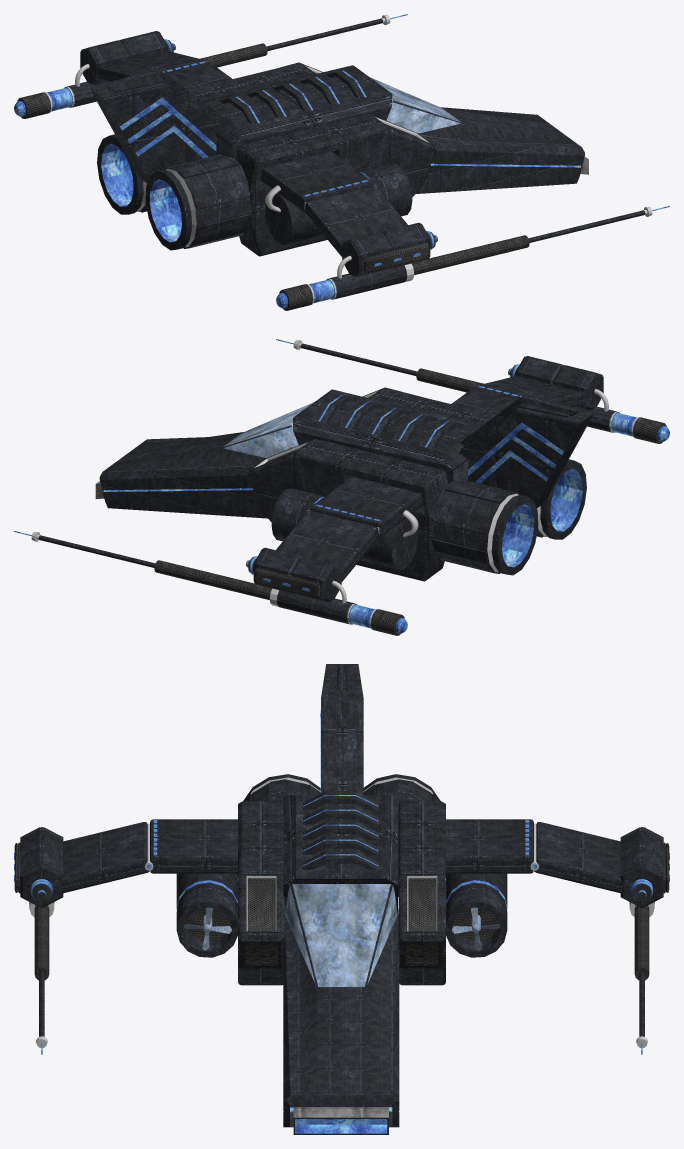
Rendered from Player.obj.
3 views of the same model, one above another, from view 1: azimuth 30°, elevation 25°; view 2: azimuth 150°, elevation 25°; view 3: azimuth 270°, elevation 25° (orthographic). The views are drawn at different scales.
Parts seen in each view (by area): view 1: Box026, Box033, Cylinder019, Box052, Box025, Cylinder018, Box038, Box034, Cylinder006, Cylinder014, Cylinder010, Gengon002 (+13 smaller); view 2: Box026, Box010, Cylinder010, Box052, Box025, Cylinder006, Box012, Box011, Cylinder018, Cylinder002, Cylinder019, Gengon001 (+13 smaller); view 3: Box026, Box010, Box033, Box025, Box034, Box011, Box038, Box012, Cylinder014, Cylinder002, Box051, Gengon002 (+11 smaller).
Boxes of the visible parts, x1=… form: Box026: x1=370, y1=77, x2=588, y2=193; Box033: x1=235, y1=114, x2=436, y2=256; Cylinder019: x1=145, y1=154, x2=253, y2=250; Box052: x1=89, y1=71, x2=224, y2=183; Box025: x1=202, y1=65, x2=392, y2=159; Cylinder018: x1=276, y1=206, x2=669, y2=310; Box038: x1=305, y1=185, x2=407, y2=256; Box034: x1=260, y1=151, x2=373, y2=212; Cylinder006: x1=14, y1=14, x2=407, y2=118; Cylinder014: x1=265, y1=163, x2=412, y2=245; Cylinder010: x1=97, y1=134, x2=147, y2=214; Gengon002: x1=342, y1=222, x2=430, y2=276; Box026: x1=95, y1=402, x2=313, y2=518; Box010: x1=247, y1=439, x2=448, y2=581; Cylinder010: x1=430, y1=479, x2=538, y2=575; Box052: x1=459, y1=396, x2=593, y2=508; Box025: x1=293, y1=389, x2=482, y2=484; Cylinder006: x1=14, y1=531, x2=407, y2=635; Box012: x1=276, y1=510, x2=378, y2=581; Box011: x1=310, y1=476, x2=423, y2=537; Cylinder018: x1=276, y1=339, x2=669, y2=443; Cylinder002: x1=271, y1=488, x2=418, y2=570; Cylinder019: x1=536, y1=459, x2=586, y2=539; Gengon001: x1=253, y1=547, x2=341, y2=601; Box026: x1=283, y1=884, x2=399, y2=1134; Box010: x1=398, y1=800, x2=445, y2=985; Box033: x1=238, y1=800, x2=285, y2=985; Box025: x1=283, y1=795, x2=397, y2=914; Box034: x1=150, y1=819, x2=237, y2=873; Box011: x1=446, y1=819, x2=533, y2=873; Box038: x1=61, y1=822, x2=149, y2=893; Box012: x1=534, y1=822, x2=622, y2=893; Cylinder014: x1=176, y1=873, x2=237, y2=957; Cylinder002: x1=446, y1=873, x2=507, y2=957; Box051: x1=327, y1=664, x2=356, y2=791; Gengon002: x1=20, y1=827, x2=63, y2=908.
Size of the model in its own units: 68.67 by 26.38 by 72.25.
